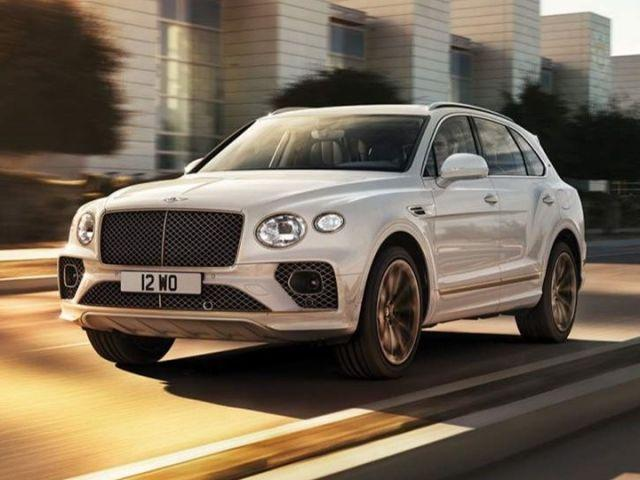bentley: (56, 100, 586, 378)
